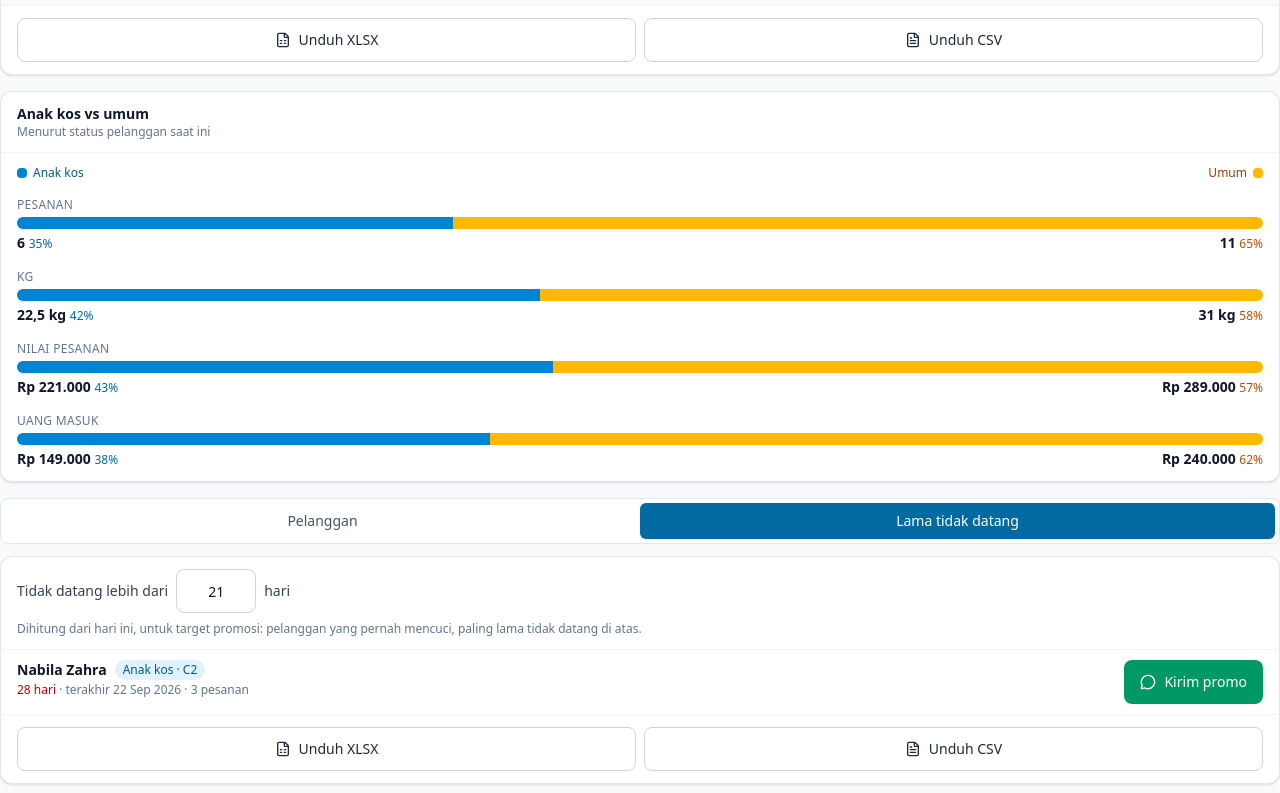
LaporanPage › Lama tidak datang: N is adjustable and remembered on this phone
The image size is (1280, 793).
(page scrolled)
Expected: the element with test id "absent-card" is shown, [0,556,1279,784]
Replace the text in the number field named "Batas hari tidak datang" with "7" at [216, 591], box [176,569,256,613]
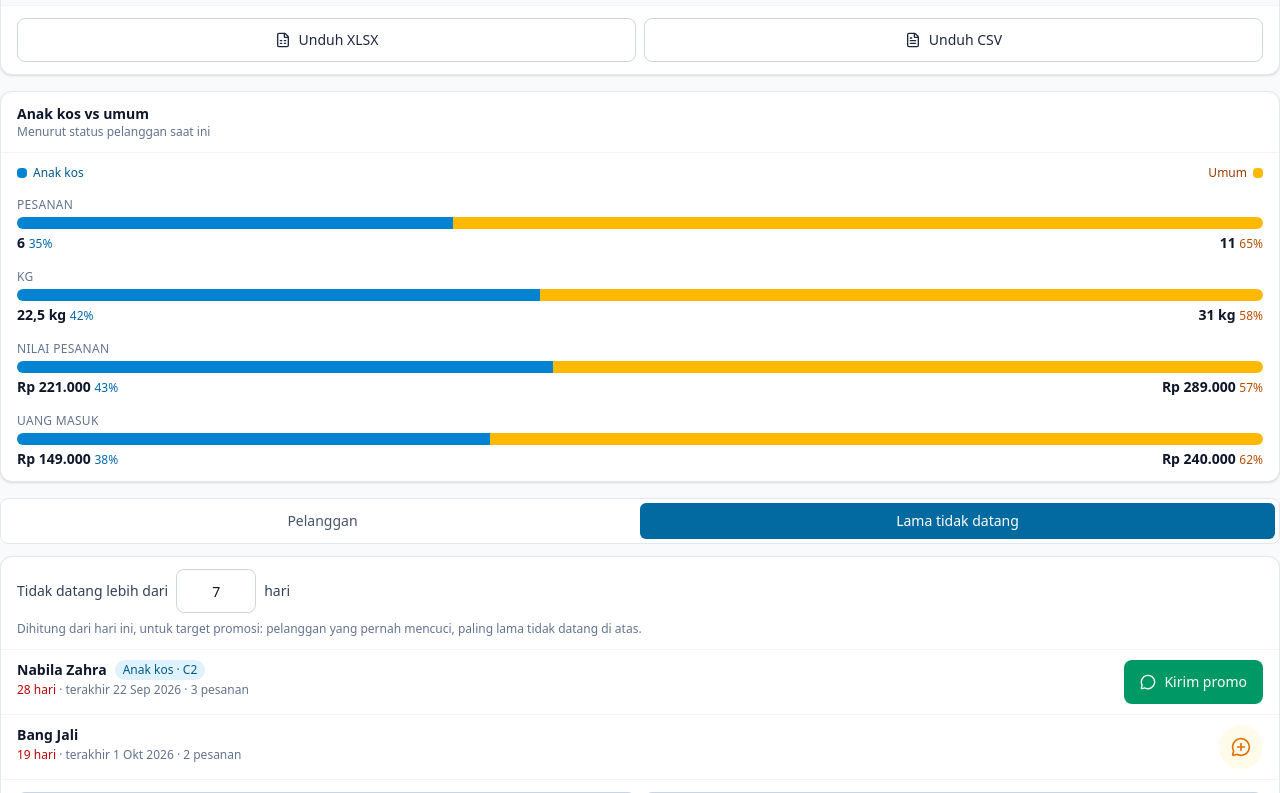
Replace the text in the number field named "Batas hari tidak datang" with "60" at [216, 591], box [176,569,256,613]
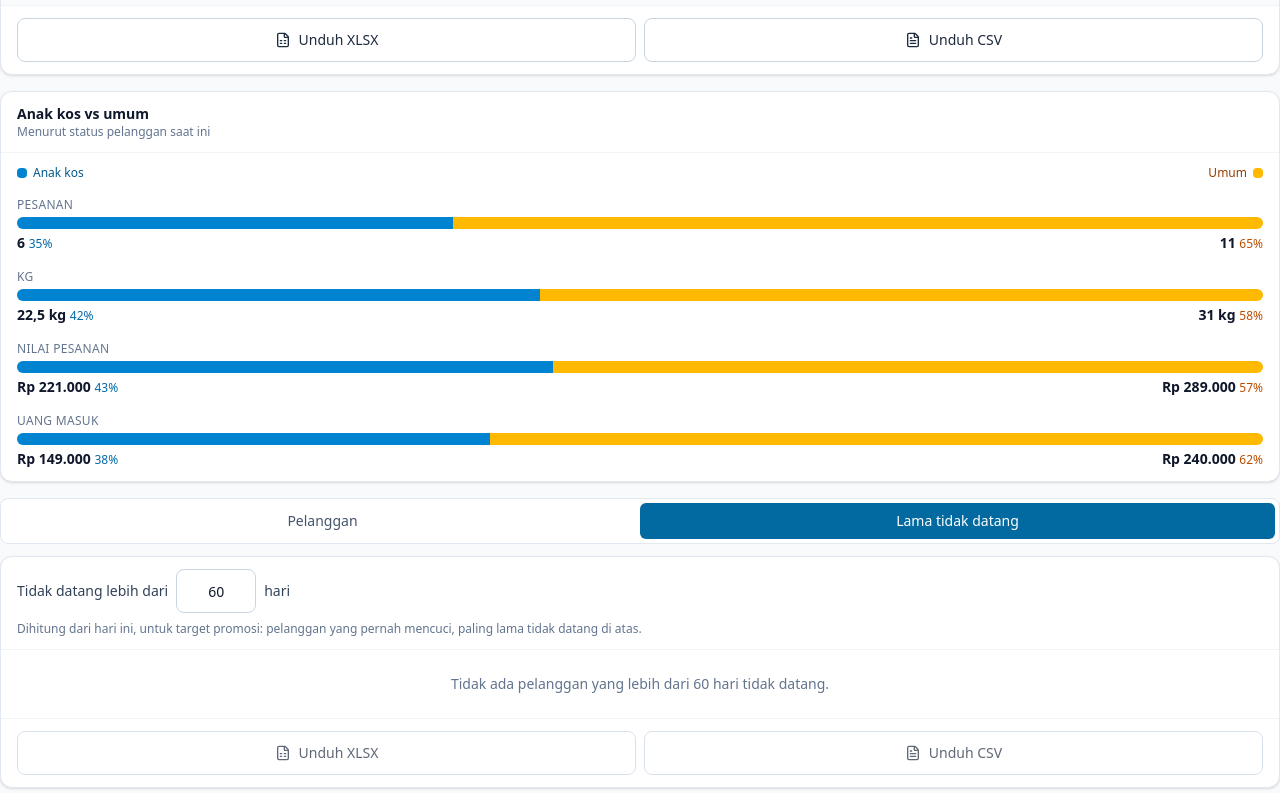
Expected: the text "Tidak ada pelanggan yang lebih dari 60 hari tidak datang." is shown, [1,649,1279,718]
